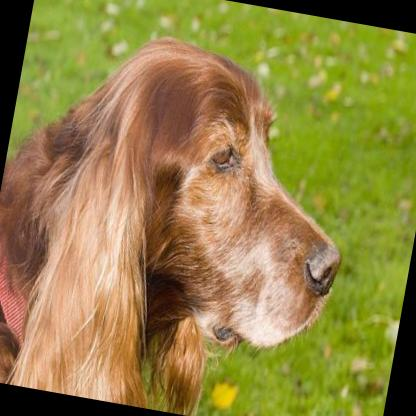Irish_setter: (0, 13, 375, 416)
